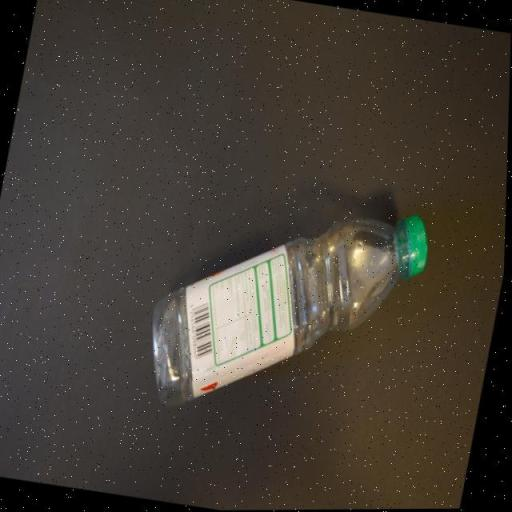plastic: (136, 177, 438, 444)
